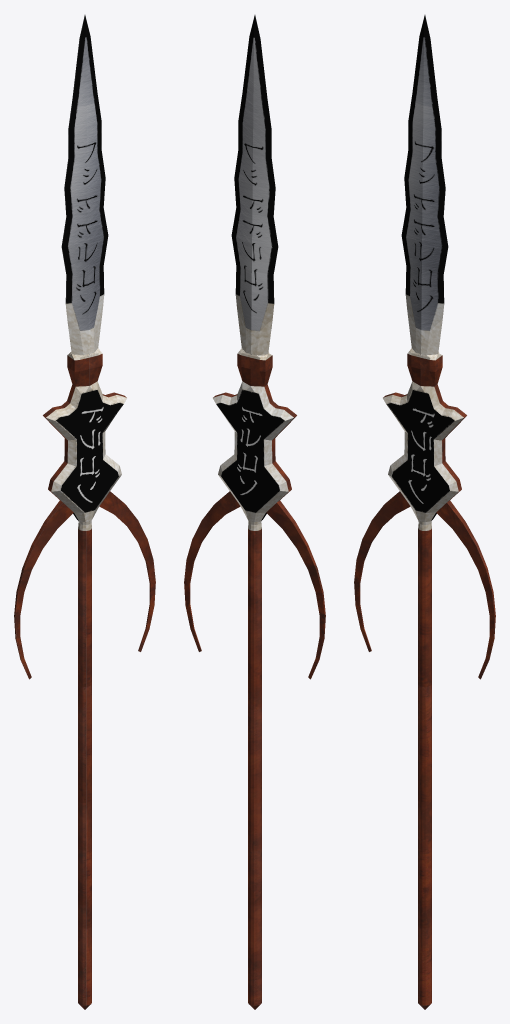
File: dragon spear.fbx
3 renders of one model, left to right at view 1: azimuth 30°, elevation 25°; view 2: azimuth 150°, elevation 25°; view 3: azimuth 330°, elevation 25°, orthographic.
Parts seen in each view (by area): view 1: spear; view 2: spear; view 3: spear.
Boxes of the visible parts, box(x1,y1,x2,y2) form: spear: box(14, 15, 155, 1009); spear: box(184, 15, 325, 1009); spear: box(354, 15, 495, 1009).
Size of the model in its own units: 30.84 by 208 by 3.38.
Materials: 1 (1 with a texture image).
